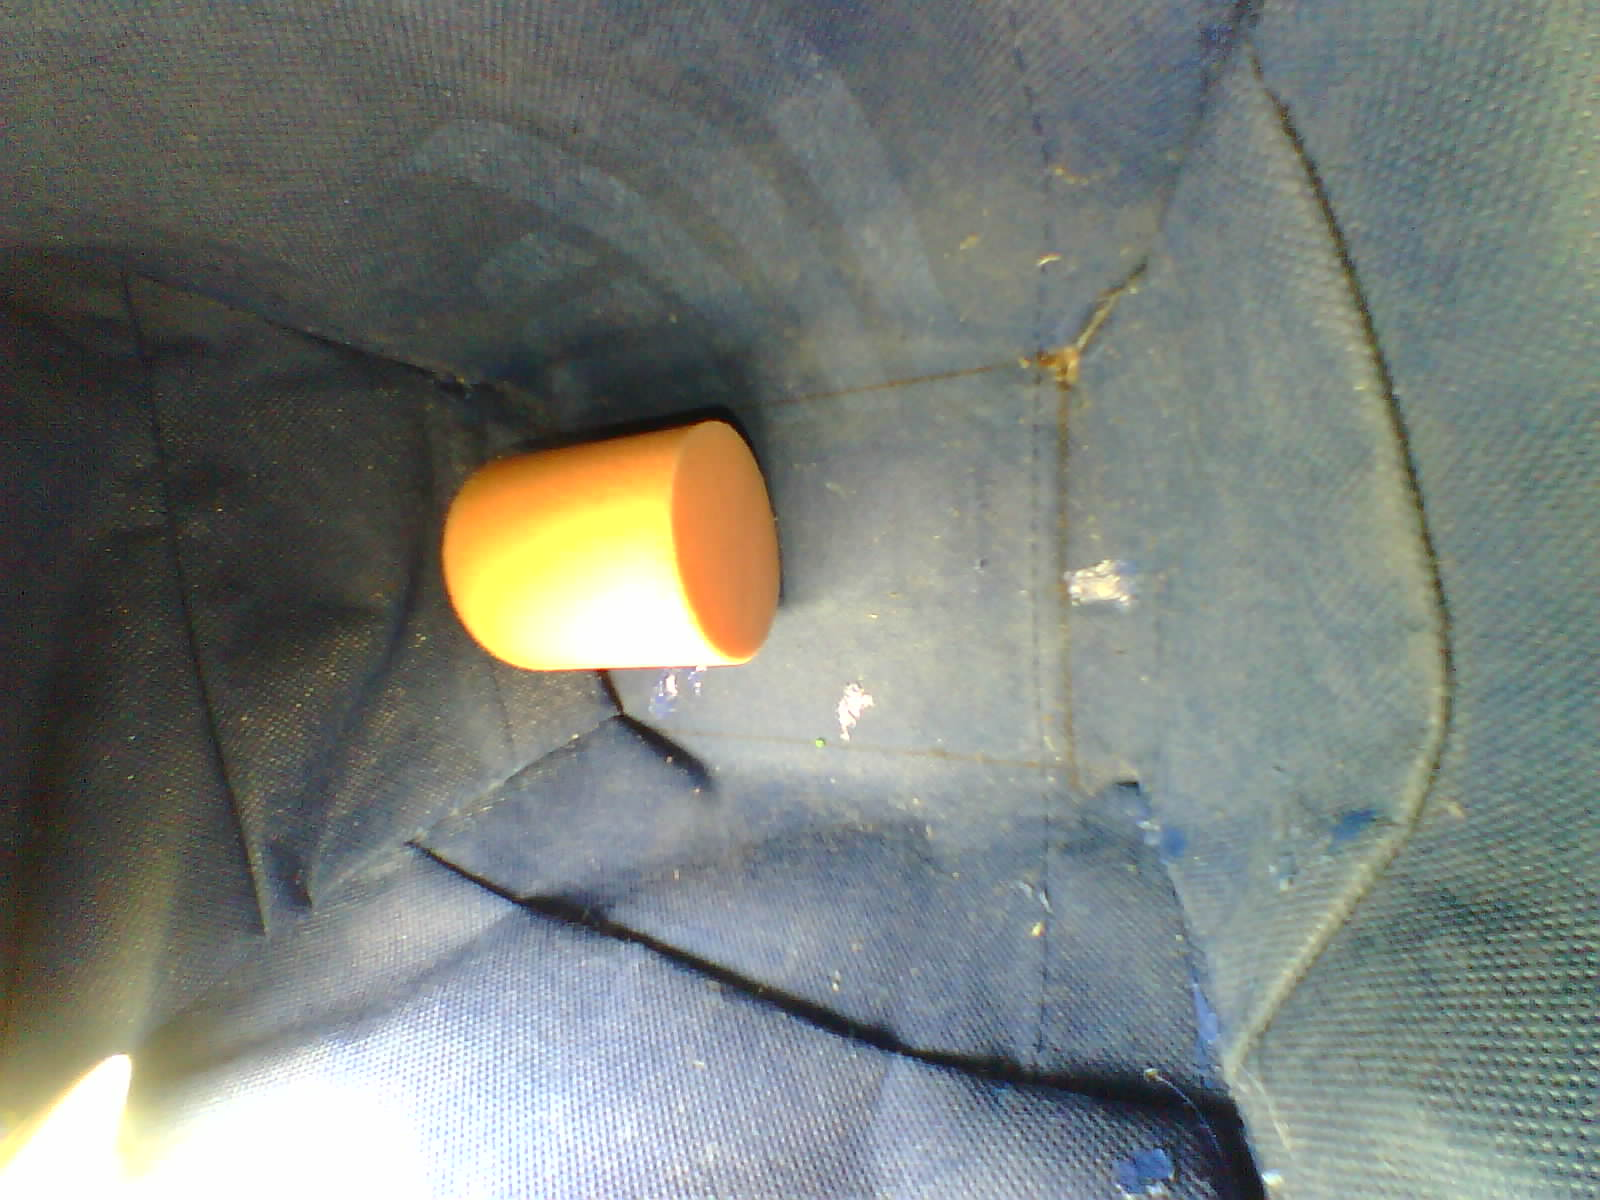cylinder-soft: (412, 397, 794, 701)
